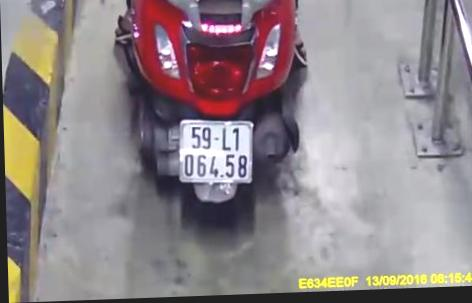License_Plate: (175, 113, 257, 192)
